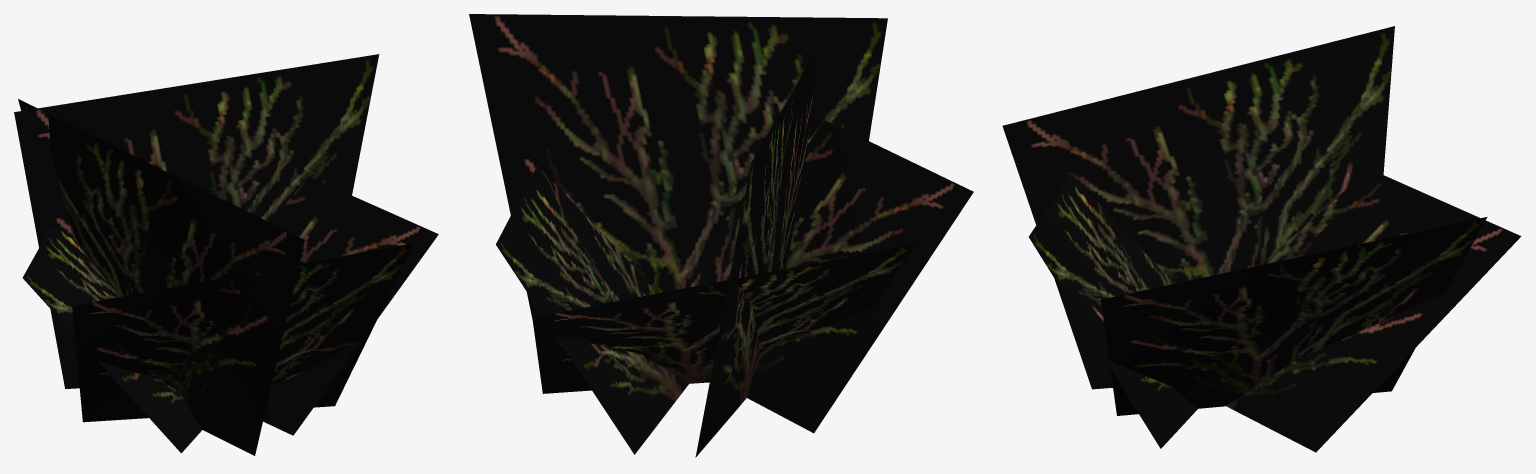
File: kugm_yc_41_02.FBX
3 views of the same model, side by side, from view 1: azimuth 30°, elevation 25°; view 2: azimuth 150°, elevation 25°; view 3: azimuth 270°, elevation 25° (orthographic). The views are drawn at different scales.
Visible parts, largest first — view 1: kugm_yc_41_02; view 2: kugm_yc_41_02; view 3: kugm_yc_41_02.
Part boxes in pixels (x1,y1,x2,y2): kugm_yc_41_02: (14, 54, 438, 455); kugm_yc_41_02: (469, 14, 973, 457); kugm_yc_41_02: (1002, 26, 1521, 452).
Size of the model in its own units: 174 by 143 by 190.
